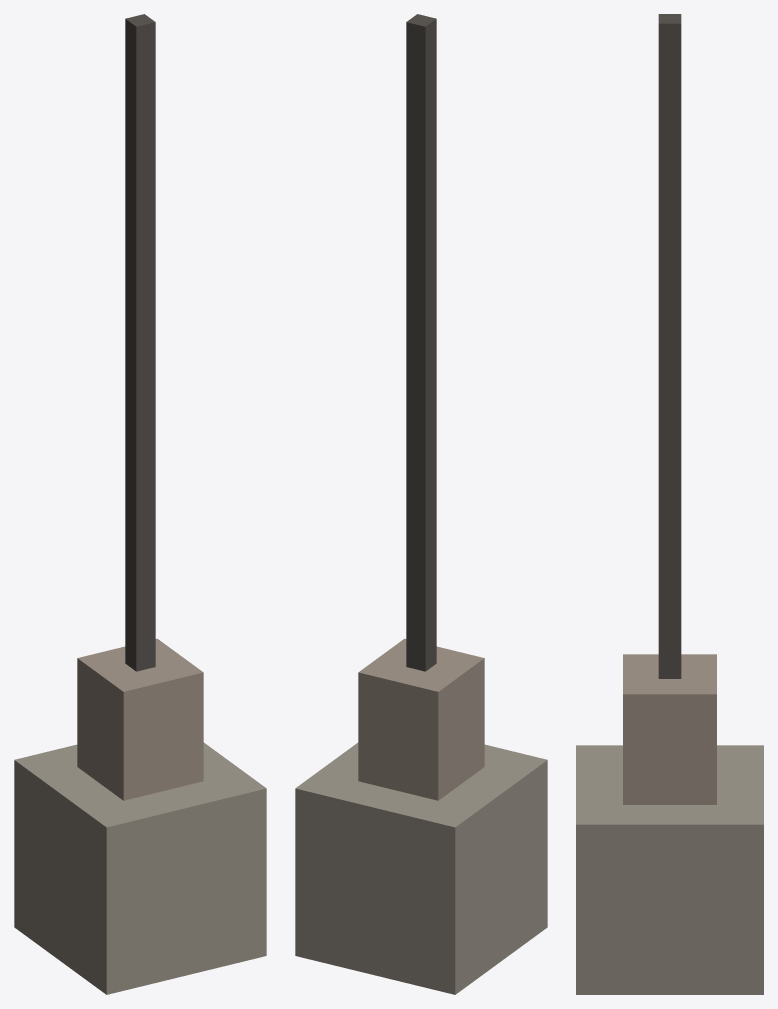
The model's file is bulbo_54472a2b3a.gltf.
The picture shows the model from 3 angles, left to right: view 1: azimuth 30°, elevation 25°; view 2: azimuth 150°, elevation 25°; view 3: azimuth 270°, elevation 25°; orthographic projection.
Visible parts, largest first — view 1: bulbo_54472a2b3a; view 2: bulbo_54472a2b3a; view 3: bulbo_54472a2b3a.
Boxes of the visible parts, box(x1,y1,x2,y2) form: bulbo_54472a2b3a: box(14, 14, 266, 994); bulbo_54472a2b3a: box(295, 14, 547, 994); bulbo_54472a2b3a: box(576, 14, 763, 994).
Bounding box in the file's own units: 0.1 × 0.55 × 0.1.
